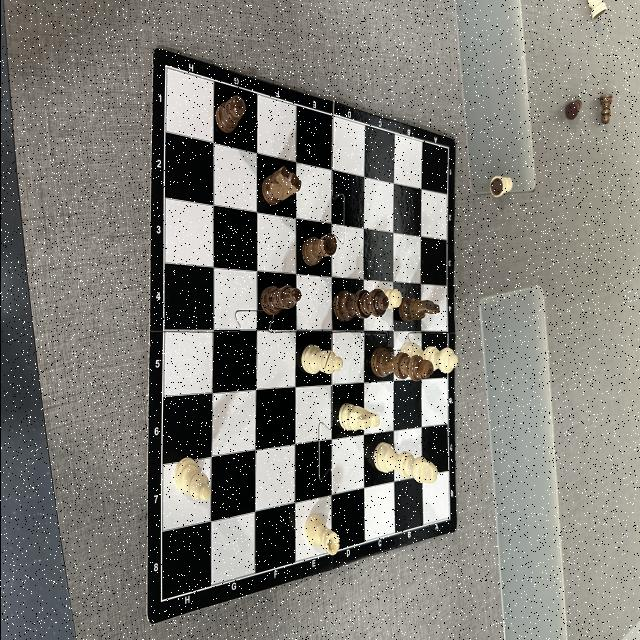Black-Bishop: (259, 285, 301, 315)
Black-King: (369, 347, 434, 382)
Black-Knight: (260, 166, 300, 206), (398, 297, 438, 322)
Black-Pawn: (214, 95, 244, 133), (598, 94, 612, 124)
Black-Queen: (332, 288, 388, 322)
Black-Rook: (300, 233, 336, 267)
White-Bishop: (172, 457, 210, 501), (300, 344, 342, 374)
White-King: (372, 442, 437, 484)
White-Knight: (338, 402, 380, 432)
White-Pawn: (378, 288, 402, 310)
White-Queen: (399, 342, 457, 374)
White-Rook: (303, 514, 339, 556)
